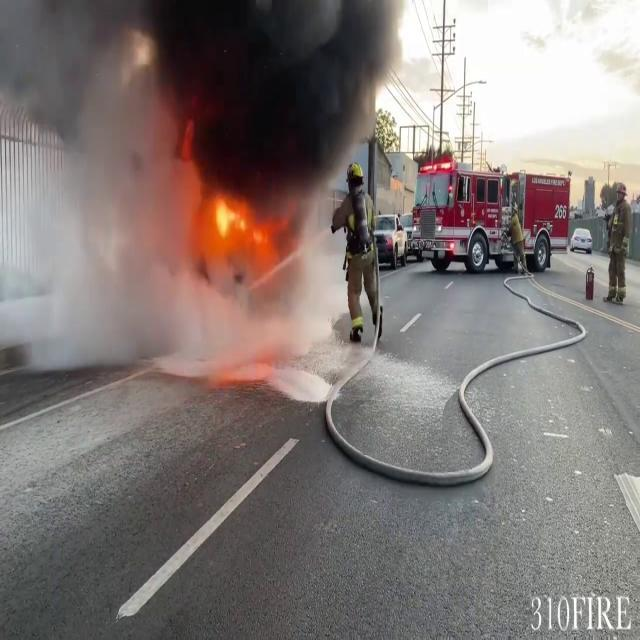Fire: (207, 183, 277, 264)
Smoke: (0, 0, 402, 374)
